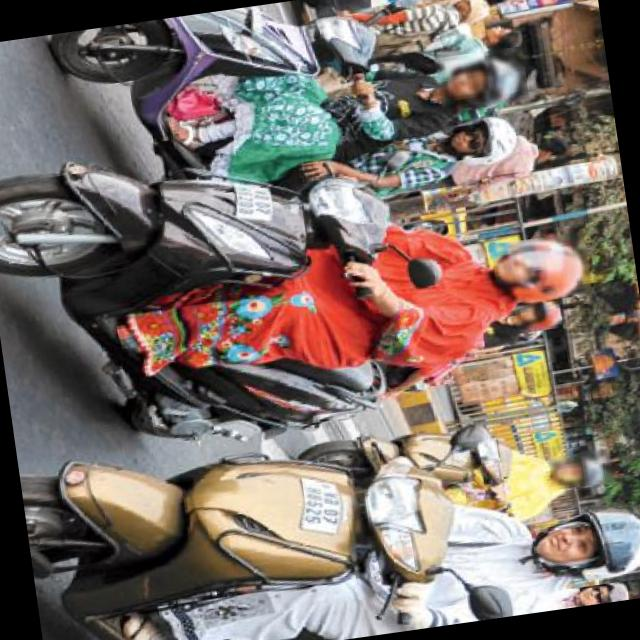With Helmet: (524, 497, 640, 590), (487, 232, 591, 307), (433, 48, 529, 116), (442, 114, 520, 170), (546, 449, 613, 493), (565, 580, 632, 608), (512, 300, 562, 334)
